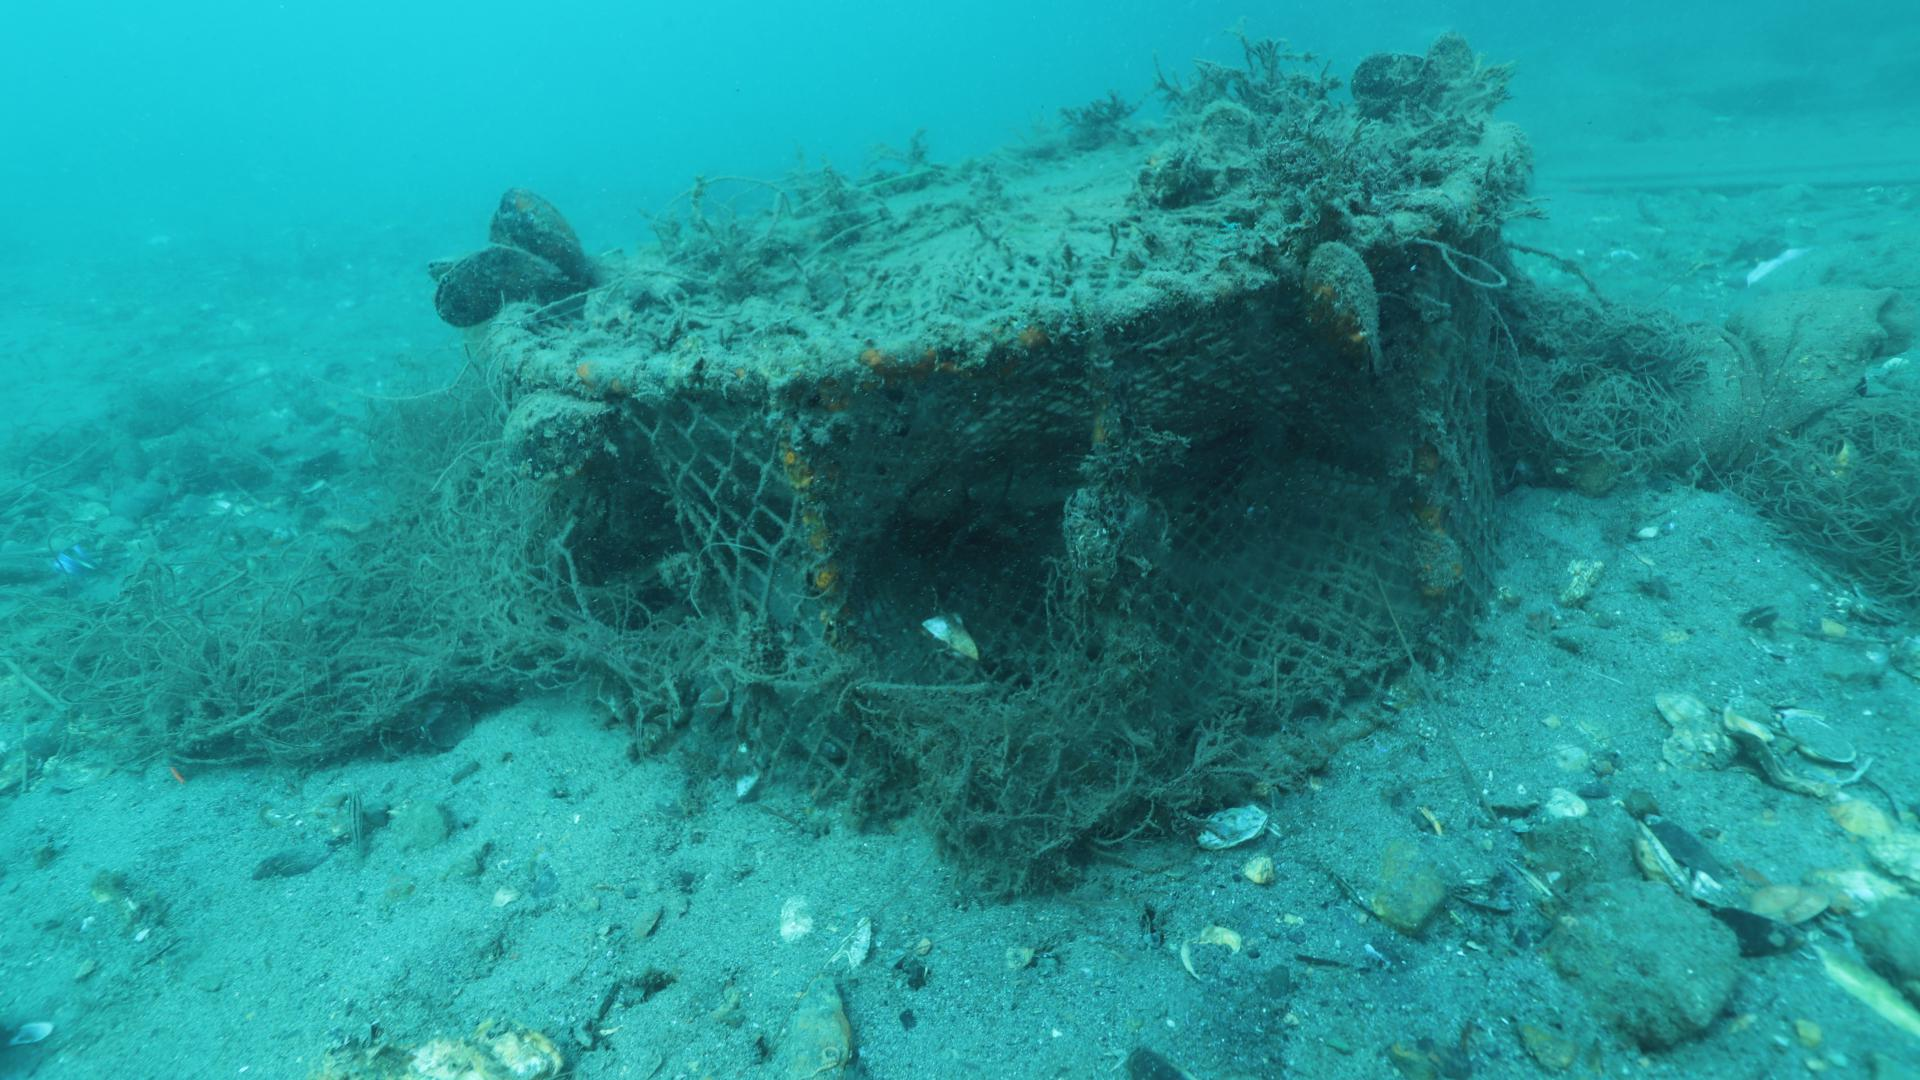circular fish trap: (475, 87, 1524, 787)
